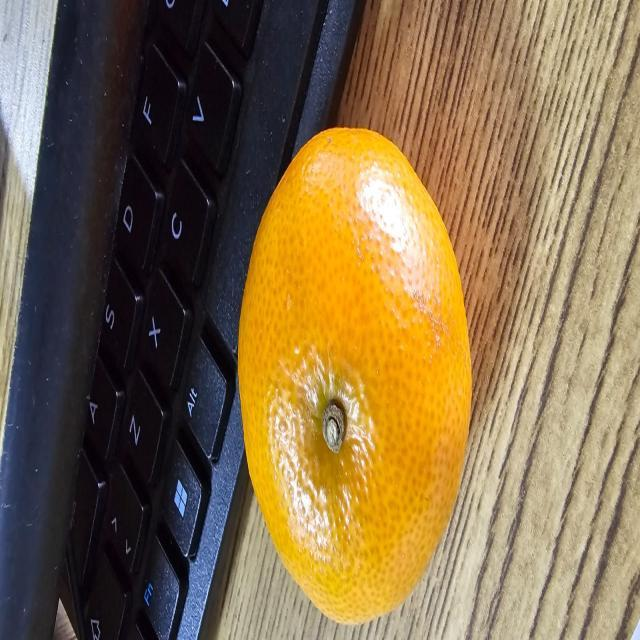Jeruk Mandarin: (236, 116, 477, 627)
